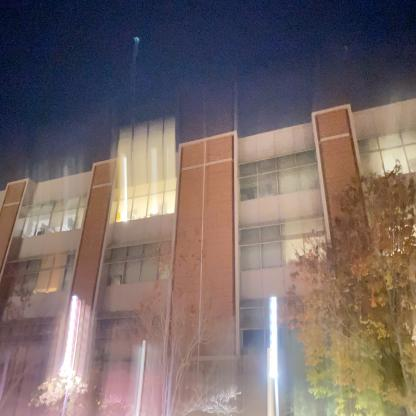eb2: (0, 104, 415, 386)
